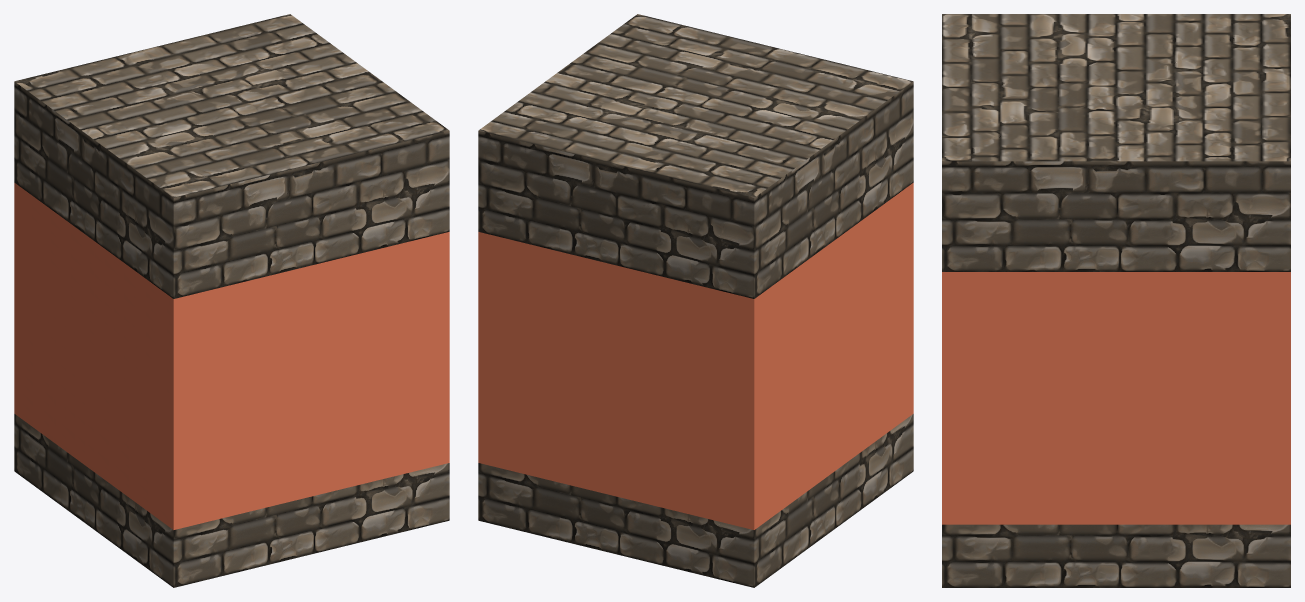
Rendered from wall2.fbx.
3 renders of one model, left to right at view 1: azimuth 30°, elevation 25°; view 2: azimuth 150°, elevation 25°; view 3: azimuth 270°, elevation 25°, orthographic. The views are drawn at different scales.
Parts seen in each view (by area): view 1: block, block_low; view 2: block, block_low; view 3: block, block_low.
Boxes of the visible parts, x1,y1,x2,y2 form: block: (14,183,449,587); block_low: (14,14,449,298); block: (478,183,913,587); block_low: (478,14,913,298); block: (942,272,1290,587); block_low: (942,14,1290,271).
Bounding box in the file's own units: 10 × 13.5 × 10.
